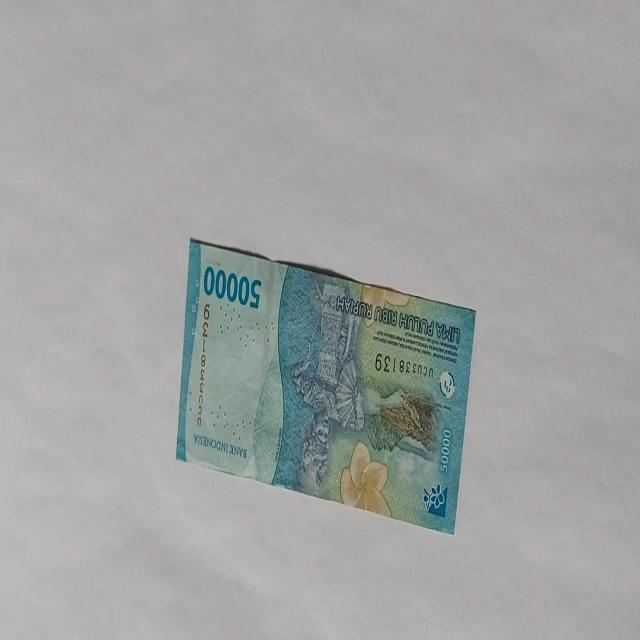lima puluh ribu rupiah: (174, 235, 476, 536), (202, 263, 262, 309)
